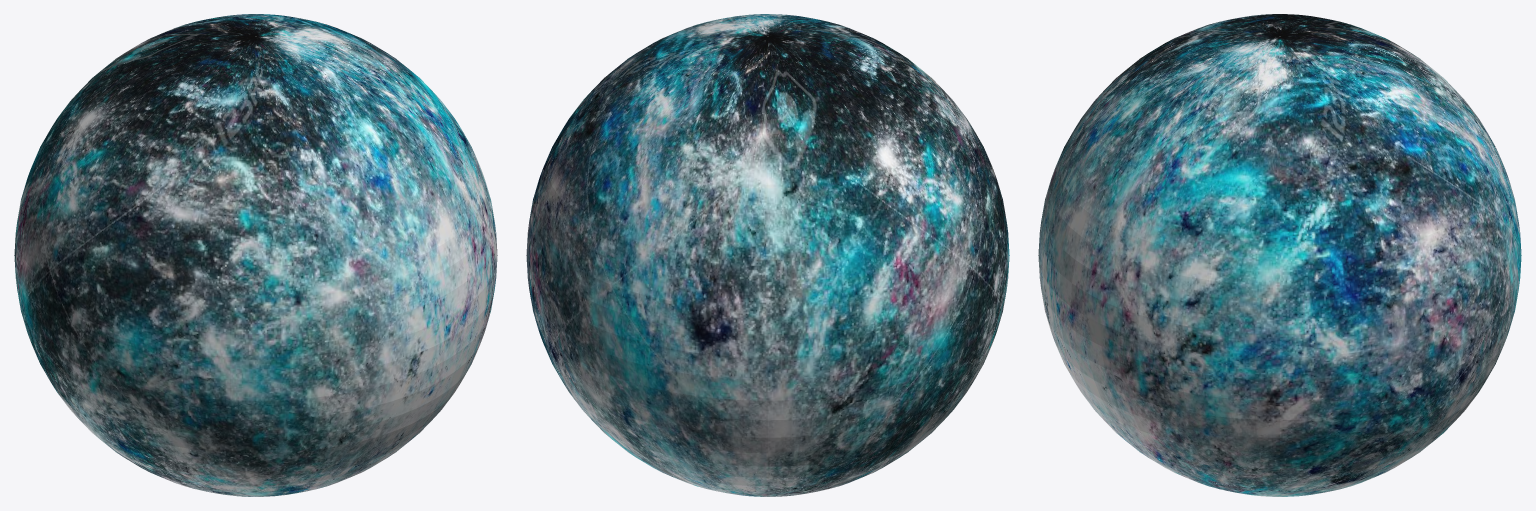
File: Ice.fbx
3 views of the same model, side by side, from view 1: azimuth 30°, elevation 25°; view 2: azimuth 150°, elevation 25°; view 3: azimuth 270°, elevation 25° (orthographic).
Parts seen in each view (by area): view 1: Ice; view 2: Ice; view 3: Ice.
Part boxes in pixels (x1=…): Ice: x1=14, y1=14, x2=497, y2=496; Ice: x1=526, y1=14, x2=1009, y2=496; Ice: x1=1038, y1=14, x2=1521, y2=496.
Size of the model in its own units: 2202 by 2202 by 2202.
